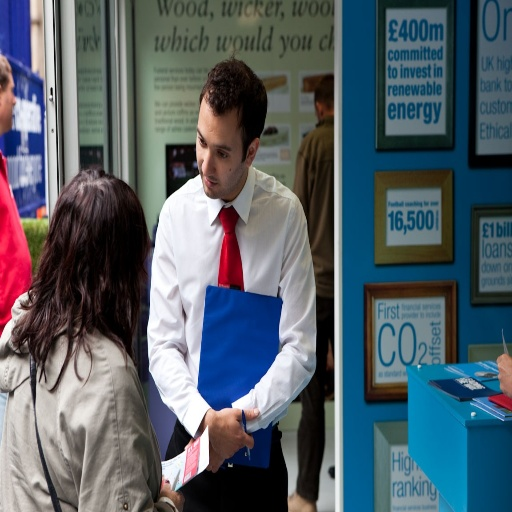hand: (189, 406, 252, 470), (184, 440, 225, 474), (159, 476, 185, 511)
